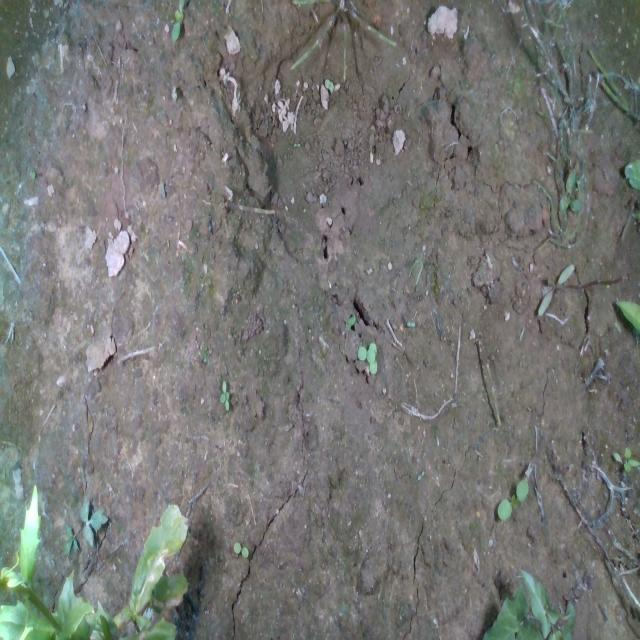weed: (536, 263, 576, 317), (497, 477, 529, 521), (218, 378, 234, 418), (230, 534, 253, 561), (406, 314, 424, 332)
